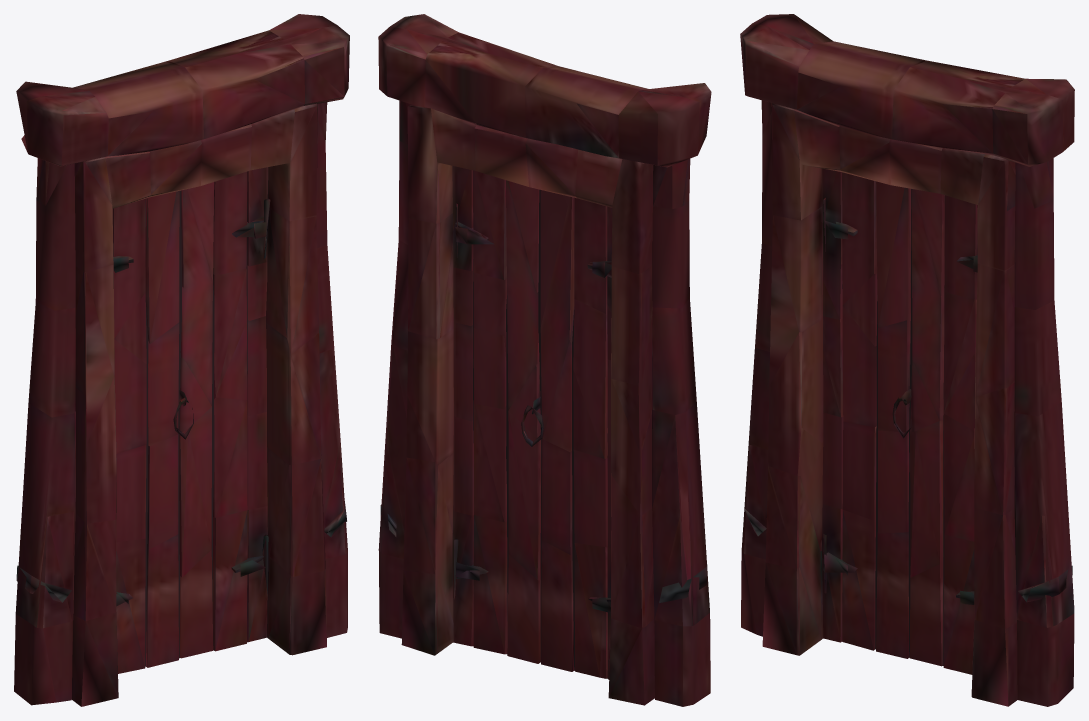
Rendered from door.lod1.glb.
3 renders of one model, left to right at view 1: azimuth 30°, elevation 25°; view 2: azimuth 150°, elevation 25°; view 3: azimuth 330°, elevation 25°, orthographic.
Bounding box in the file's own units: 1.3 × 2.35 × 0.3292.
Materials: 1 (1 with a texture image).
